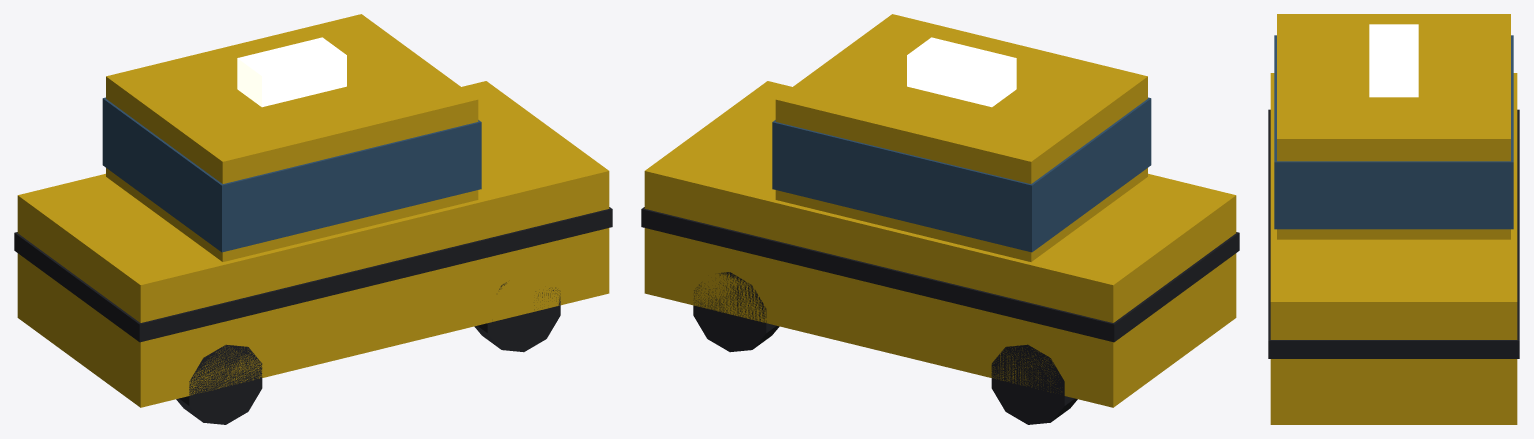
File: prop-yellow-cab.glb
The picture shows the model from 3 angles, left to right: view 1: azimuth 30°, elevation 25°; view 2: azimuth 150°, elevation 25°; view 3: azimuth 270°, elevation 25°; orthographic projection.
Parts seen in each view (by area): view 1: cw_paint, cw_glow; view 2: cw_paint, cw_glow; view 3: cw_paint, cw_glow.
Boxes of the visible parts, x1,y1,x2,y2 form: cw_paint: (14,14,612,424); cw_glow: (237,37,346,107); cw_paint: (641,14,1239,424); cw_glow: (907,37,1016,107); cw_paint: (1268,14,1519,424); cw_glow: (1369,24,1418,97).
Size of the model in its own units: 2.22 by 1.31 by 1.02.
